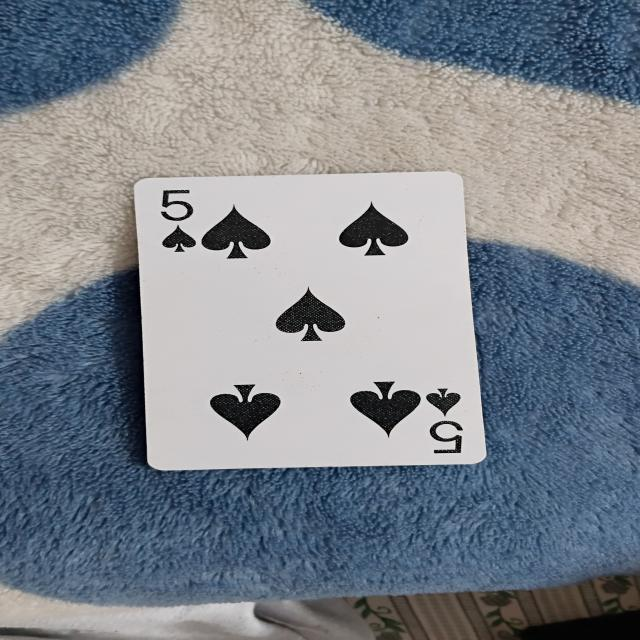5S: (130, 175, 491, 468)
